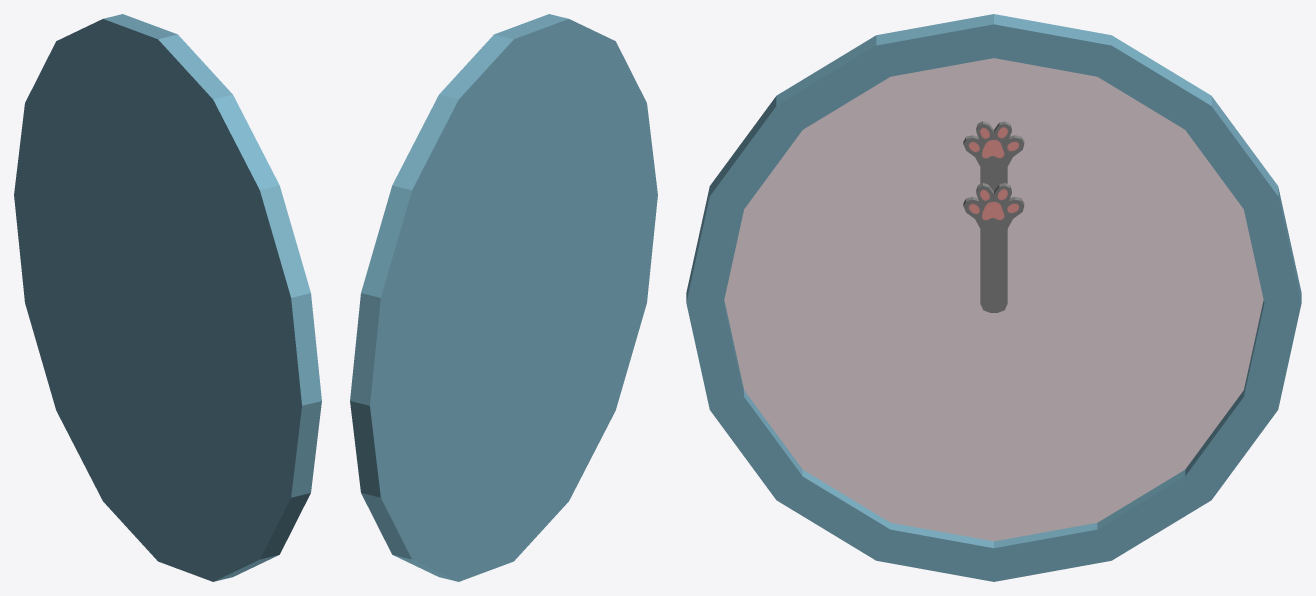
File: clock.fbx
3 renders of one model, left to right at view 1: azimuth 30°, elevation 25°; view 2: azimuth 150°, elevation 25°; view 3: azimuth 270°, elevation 25°, orthographic. The views are drawn at different scales.
Parts seen in each view (by area): view 1: watch_face; view 2: watch_face; view 3: watch_face, Plane.005, Plane.006.
Boxes of the visible parts, <box> form: watch_face: <box>14,14,321,581</box>; watch_face: <box>350,14,657,581</box>; watch_face: <box>686,14,1301,581</box>; Plane.005: <box>963,183,1024,312</box>; Plane.006: <box>963,121,1024,190</box>.
Size of the model in its own units: 0.0112 by 0.2797 by 0.2797.
